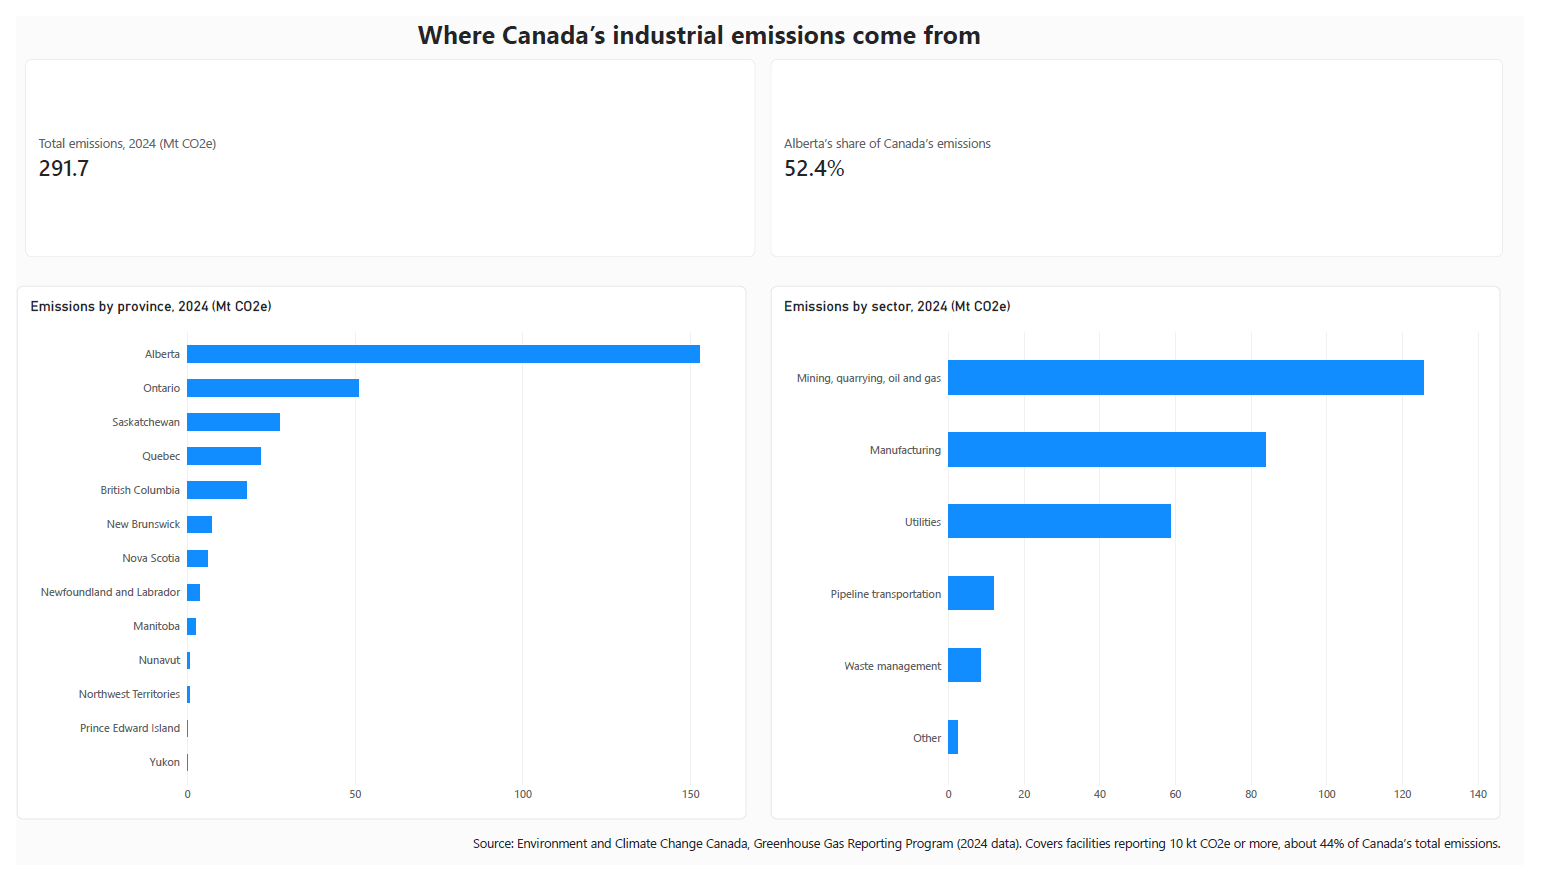

Layout of this report page (visuals, bound fields, positions):
{"tool":"powerbi","page":{"name":"National overview","canvas":[1920,1080],"ordinal":0},"visuals":[{"type":"cardVisual","fields":{"Data":["emissions.Total Mt"]},"box":[11.3,53.9,929.8,252.3],"z":0},{"type":"clusteredBarChart","title":"Emissions by province, 2024 (Mt CO2e)","fields":{"Category":["emissions.province"],"Y":["emissions.Total Mt"]},"box":[0,343,929.8,680.3],"z":1000},{"type":"clusteredBarChart","title":"Emissions by sector, 2024 (Mt CO2e)","fields":{"Category":["emissions.sector"],"Y":["emissions.Total Mt"]},"box":[961,343,929.8,680.3],"z":2000},{"type":"cardVisual","fields":{"Data":["emissions.Share of Canada"]},"box":[961,53.9,932.6,252.3],"z":3000},{"type":"textbox","box":[99.2,0,1542.1,53.9],"z":4000},{"type":"textbox","box":[99.2,1043.2,1791.5,36.9],"z":5000}]}

Visuals, with their boxes in screenshot pixels (x1, y1, x2, y2), scaled from the page's 1920x1080 canvas onto the 1542x877 screenshot:
cardVisual - emissions.Total Mt: rect(9, 44, 756, 249)
"Emissions by province, 2024 (Mt CO2e)" clusteredBarChart: rect(0, 279, 747, 831)
"Emissions by sector, 2024 (Mt CO2e)" clusteredBarChart: rect(772, 279, 1519, 831)
cardVisual - emissions.Share of Canada: rect(772, 44, 1521, 249)
textbox: rect(80, 0, 1318, 44)
textbox: rect(80, 847, 1518, 876)
